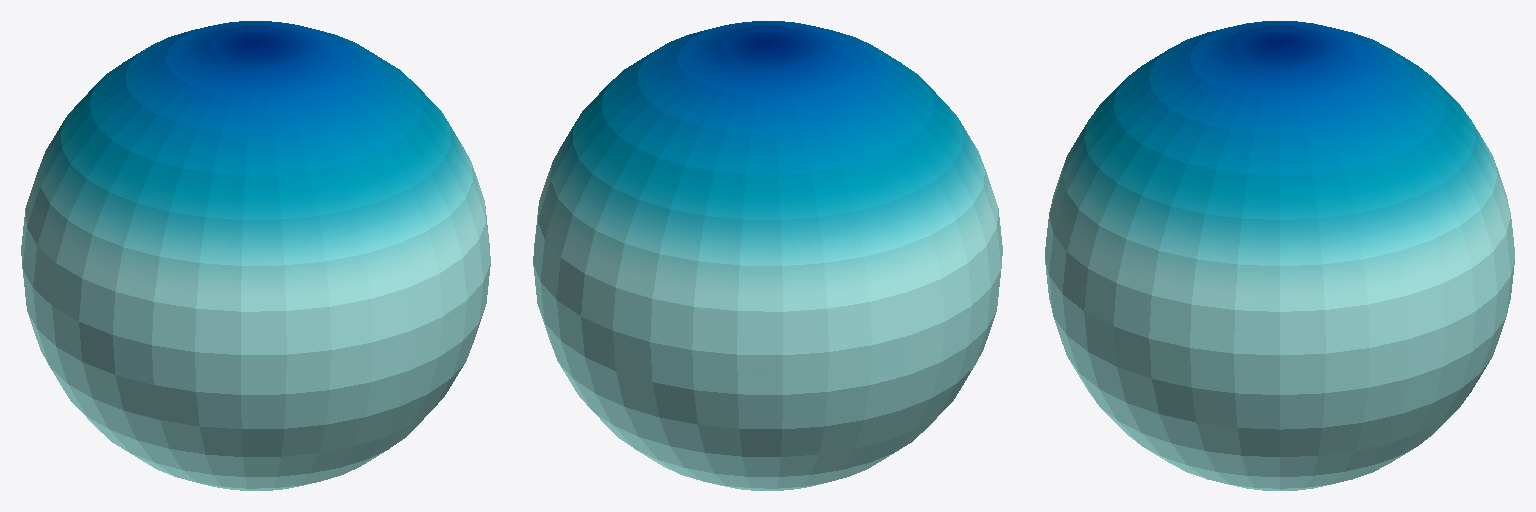
3 views of the same model, side by side, from view 1: azimuth 30°, elevation 25°; view 2: azimuth 150°, elevation 25°; view 3: azimuth 270°, elevation 25° (orthographic).
Visible parts, largest first — view 1: 球.001; view 2: 球.001; view 3: 球.001.
Boxes of the visible parts, box(x1,y1,x2,y2) form: 球.001: box(21, 21, 490, 490); 球.001: box(533, 21, 1002, 490); 球.001: box(1045, 21, 1514, 490).
Bounding box in the file's own units: 800 × 800 × 800.
1 materials, 1 textured.